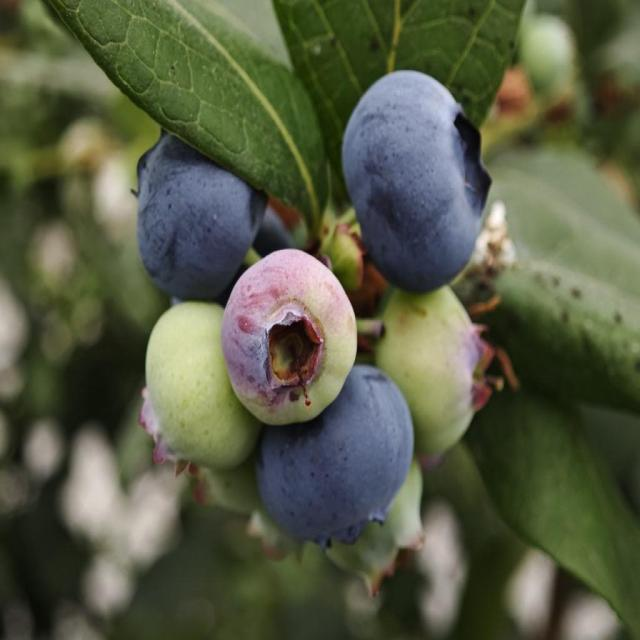RipeBlueBerry: (345, 71, 487, 286)
Semi-RipeBlueBerry: (222, 249, 357, 425)
